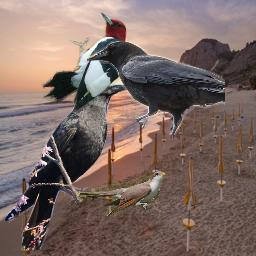Crow: (4, 80, 129, 250), (86, 41, 225, 135)
Cuckoo: (77, 171, 165, 216)
Woodpecker: (41, 12, 127, 110)
